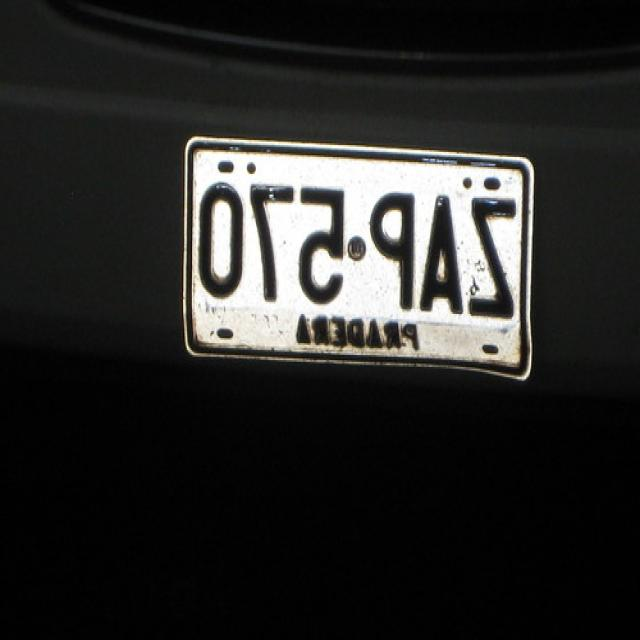placas: (189, 169, 526, 326)
